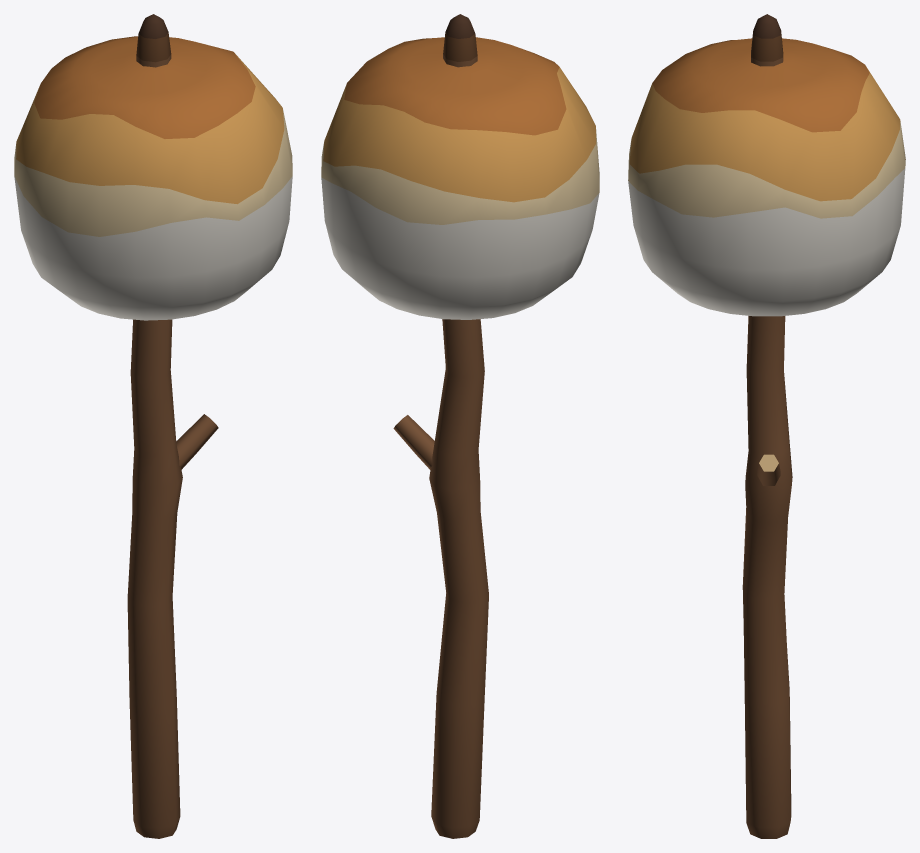
File: Cosmetic_Marshmallow.glb
3 renders of one model, left to right at view 1: azimuth 30°, elevation 25°; view 2: azimuth 150°, elevation 25°; view 3: azimuth 270°, elevation 25°, orthographic.
Parts seen in each view (by area): view 1: Cosmetic_Marshmallow; view 2: Cosmetic_Marshmallow; view 3: Cosmetic_Marshmallow.
Part boxes in pixels (x1,y1,x2,y2): Cosmetic_Marshmallow: [14, 14, 292, 838]; Cosmetic_Marshmallow: [321, 14, 599, 838]; Cosmetic_Marshmallow: [628, 14, 905, 838].
Bounding box in the file's own units: 0.307 × 1 × 0.3088.
